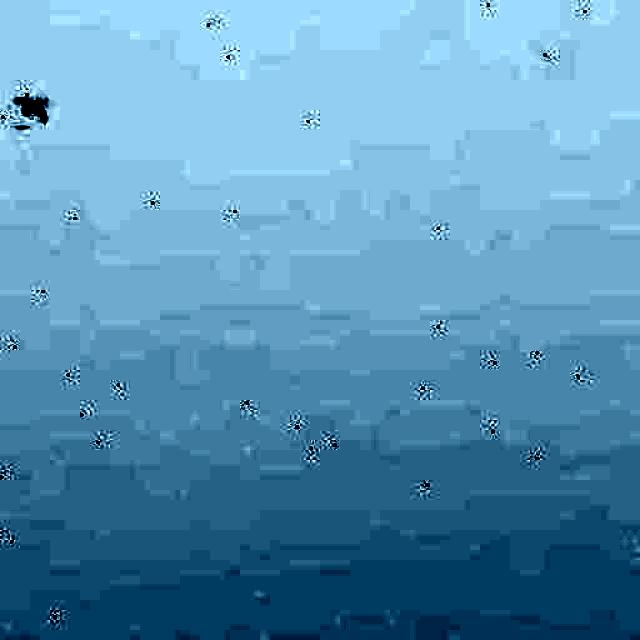airplane: (14, 96, 46, 126)
